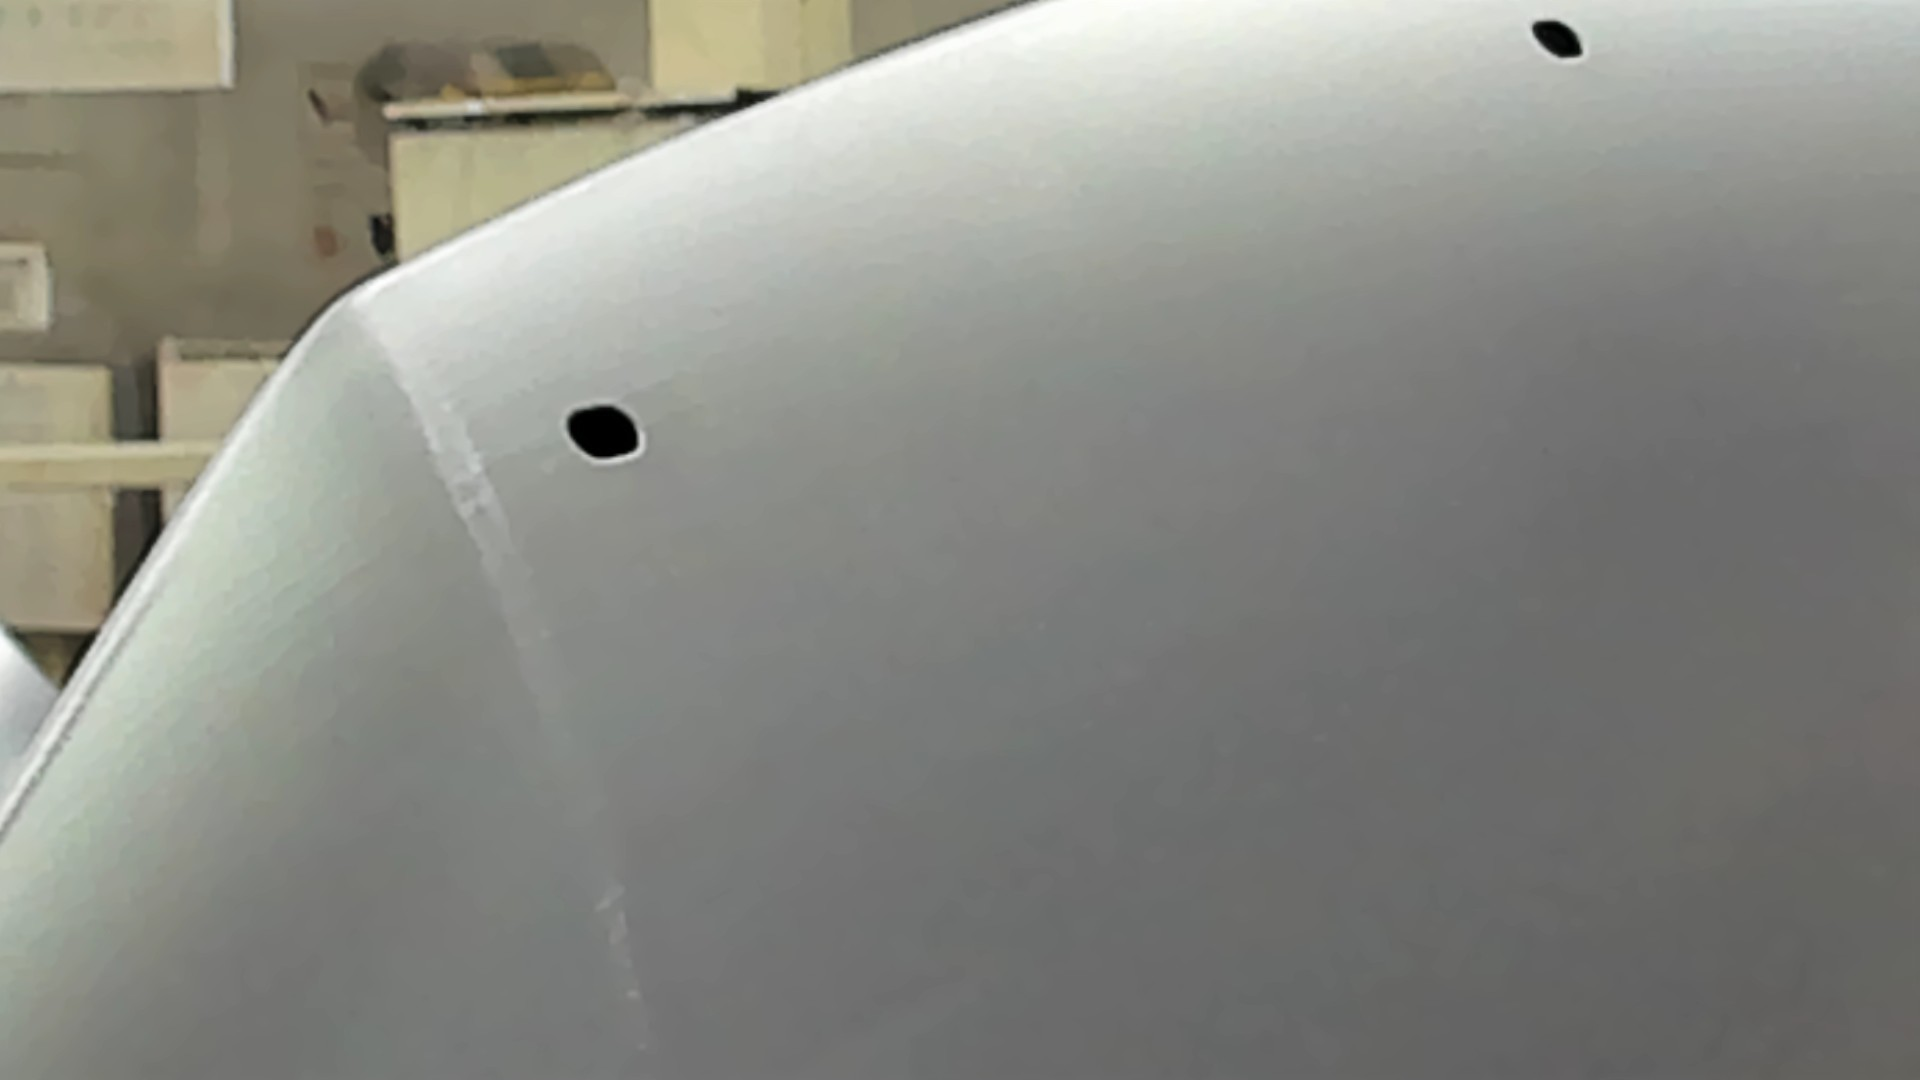amorfo: (560, 396, 650, 468), (1524, 13, 1592, 65)
capo: (753, 135, 1920, 1080)
